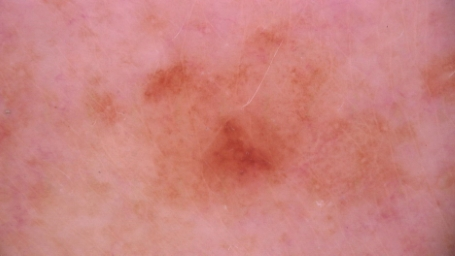melanoma: (141, 23, 416, 208), (80, 72, 130, 125)
